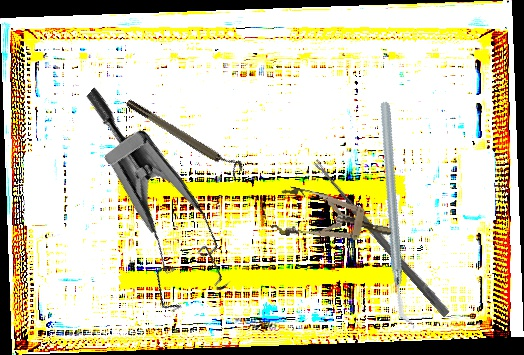Chopper: (313, 99, 482, 330)
Fixation Ring: (123, 91, 247, 181)
Speculum: (15, 84, 267, 331), (270, 184, 396, 257)
Surgical Spoon: (310, 158, 452, 318)
